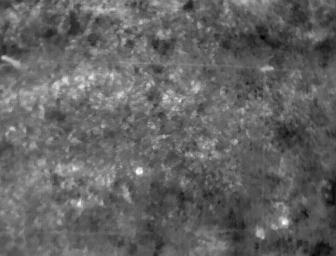landmine: (134, 165, 145, 177)
